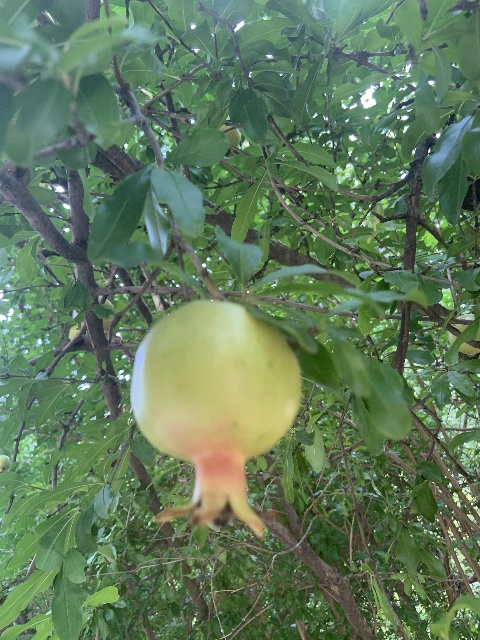mid-growth: (131, 300, 302, 537)
